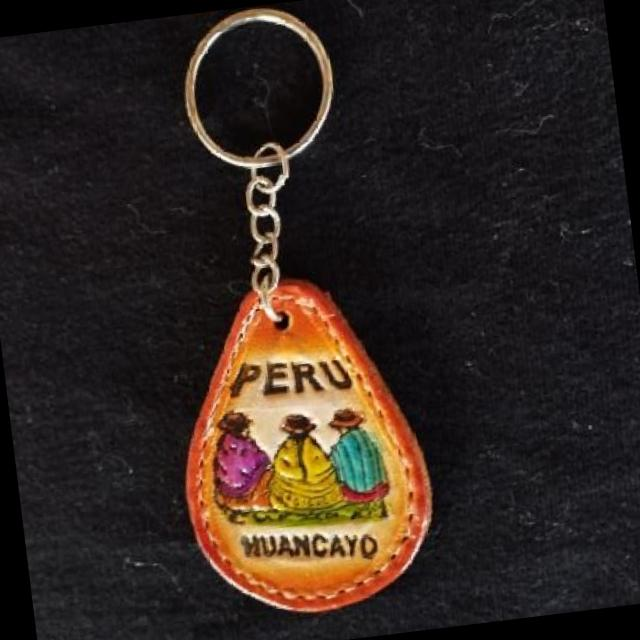Llavero: (159, 262, 446, 626)
